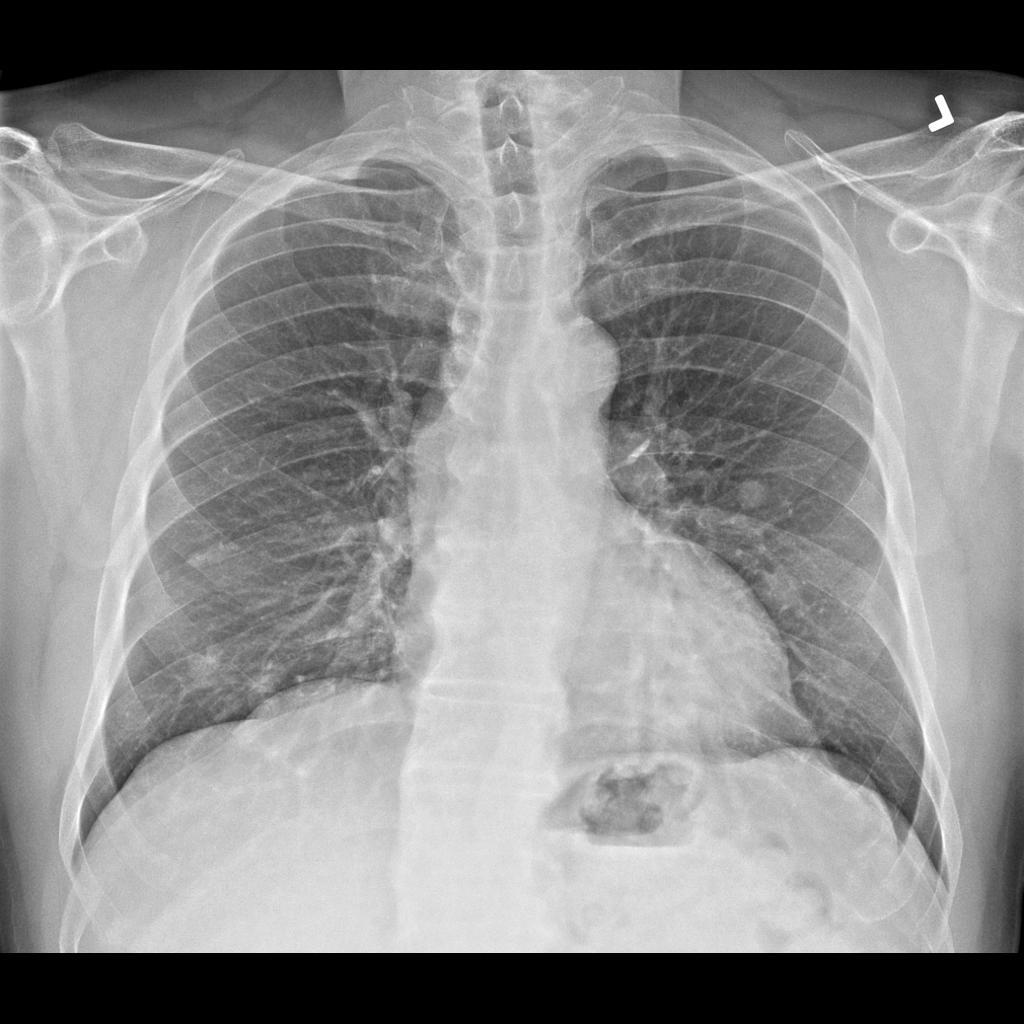Nodule: (183, 642, 232, 702), (732, 472, 784, 528)
